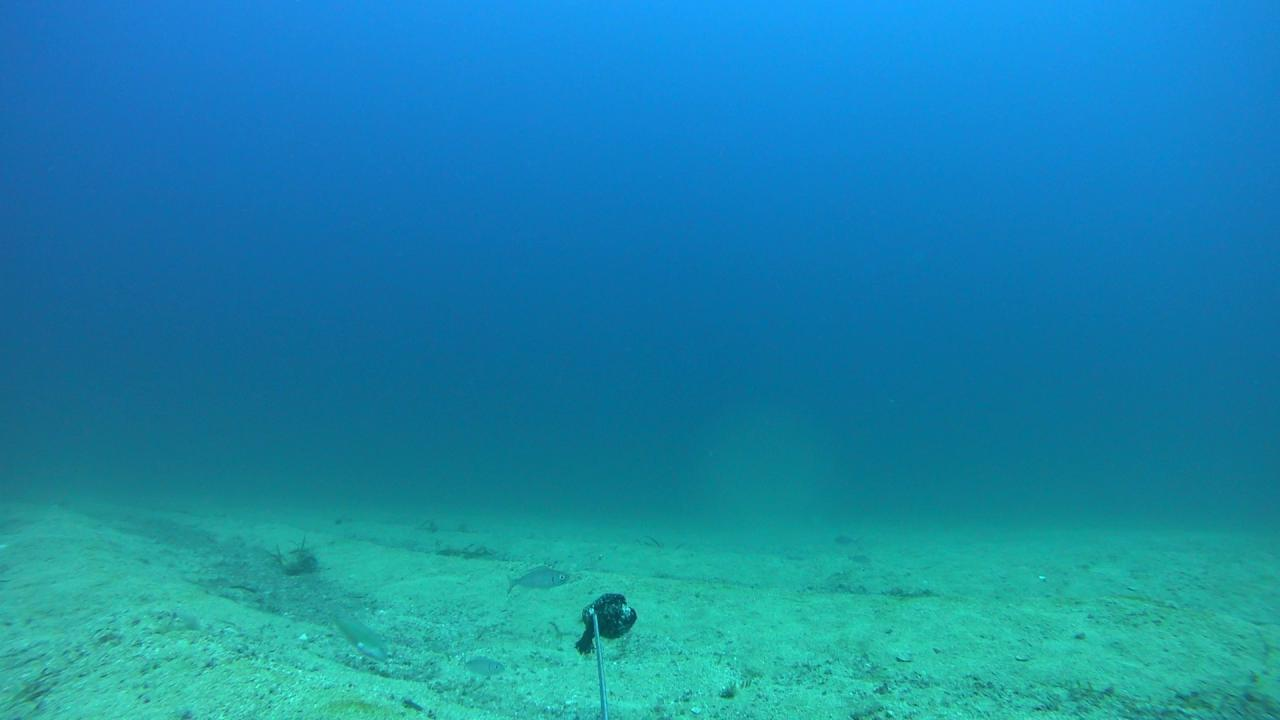pagellus: (505, 566, 569, 594), (456, 657, 510, 678)
raor: (332, 601, 389, 665)
